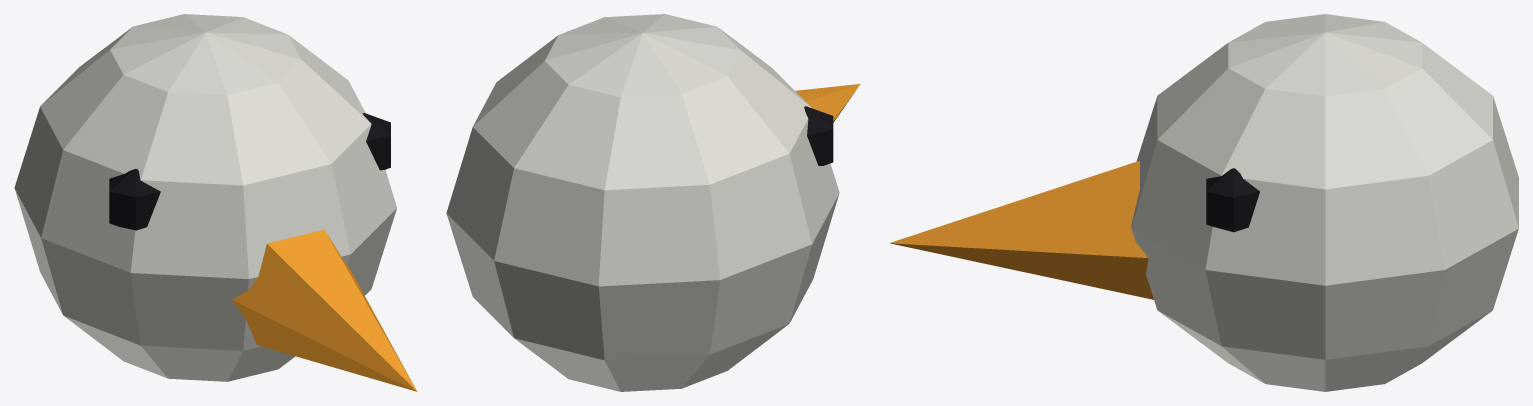
The model's file is SeagullHead.obj.
3 renders of one model, left to right at view 1: azimuth 30°, elevation 25°; view 2: azimuth 150°, elevation 25°; view 3: azimuth 270°, elevation 25°, orthographic. The views are drawn at different scales.
Parts seen in each view (by area): view 1: SeagullHead; view 2: SeagullHead; view 3: SeagullHead.
Part boxes in pixels (x1,y1,x2,y2): SeagullHead: (14,14,417,391); SeagullHead: (446,14,860,391); SeagullHead: (889,14,1518,391).
Bounding box in the file's own units: 0.15 × 0.144 × 0.2412.
